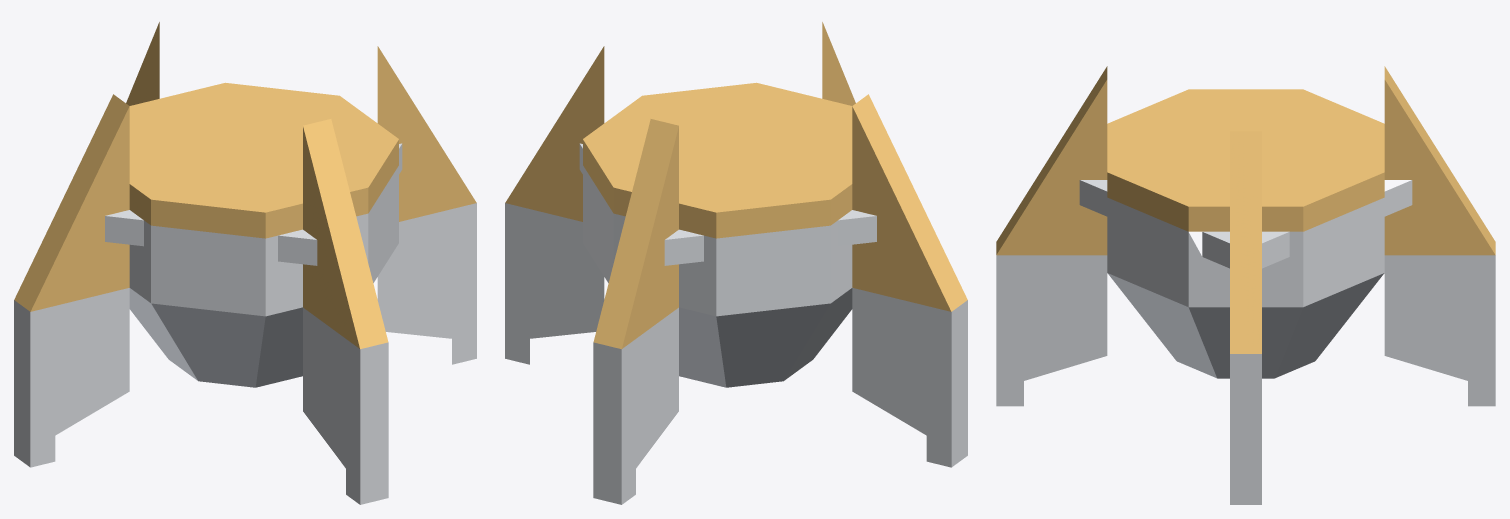
Rendered from rocket_baseb_lev1.glb.
3 views of the same model, side by side, from view 1: azimuth 30°, elevation 25°; view 2: azimuth 150°, elevation 25°; view 3: azimuth 270°, elevation 25° (orthographic). The views are drawn at different scales.
Visible parts, largest first — view 1: rocket_baseb_lev1; view 2: rocket_baseb_lev1; view 3: rocket_baseb_lev1.
Boxes of the visible parts, bbox=[...] form: rocket_baseb_lev1: bbox=[14, 22, 476, 504]; rocket_baseb_lev1: bbox=[505, 22, 967, 504]; rocket_baseb_lev1: bbox=[996, 66, 1495, 504].
Size of the model in its own units: 1.8 by 1.3 by 1.8.
